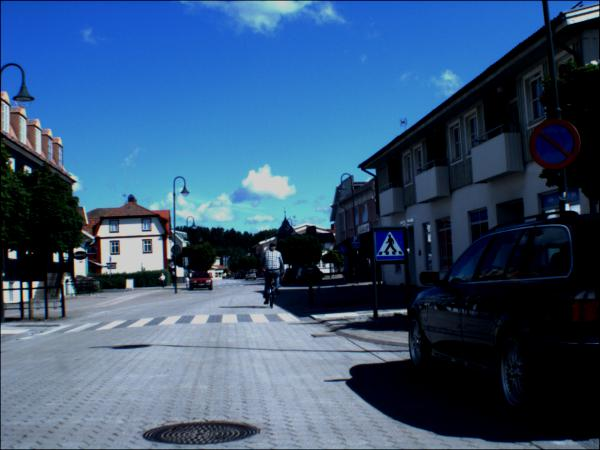NO_PARKING: (529, 119, 583, 174)
PEDESTRIAN_CROSSING: (376, 232, 408, 264)
